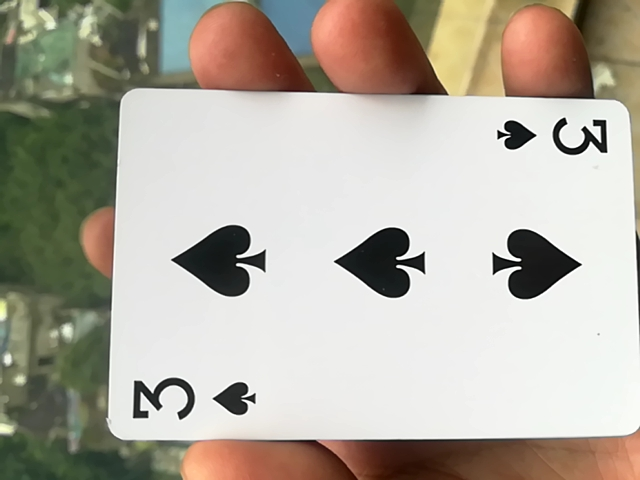ht 3: (88, 103, 636, 462)
